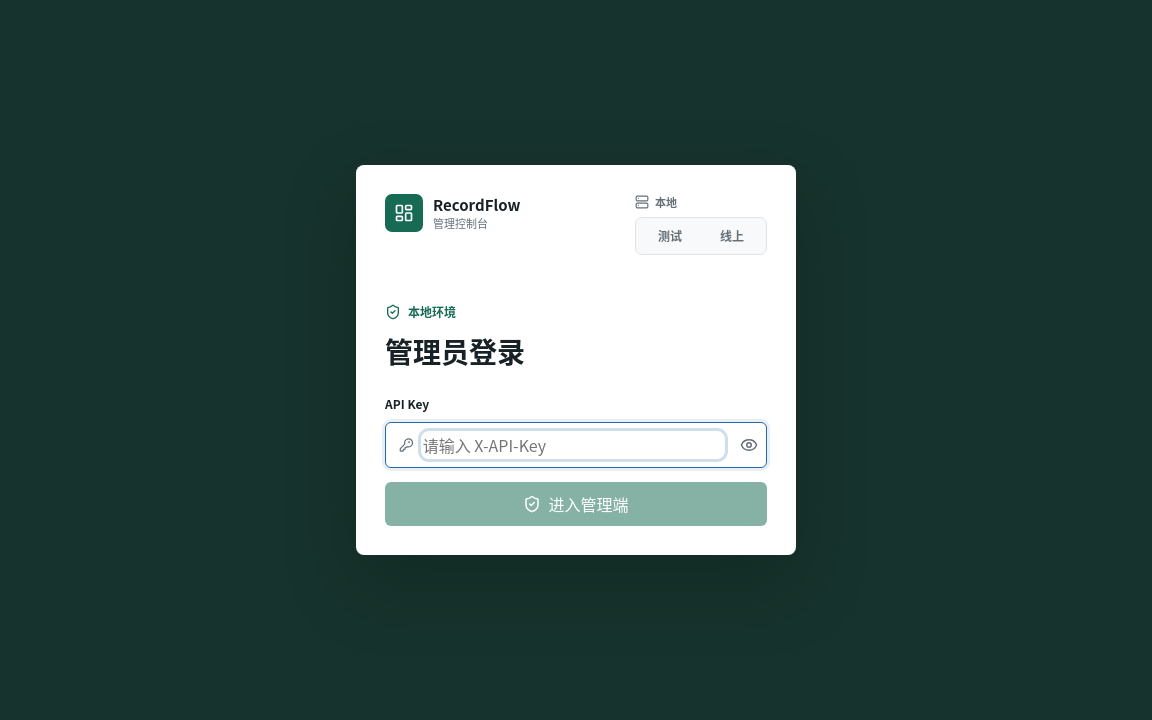
Test: AdminApp › validates the API key, shows the environment and navigates between management views
Expected: the heading "管理员登录" is shown, [385, 331, 525, 371]
Expected: the element named "当前为本地环境" is shown, [635, 194, 767, 255]
Type "admin-secret" into the password field labelled "API Key". click: (573, 445)
box: [423, 433, 723, 457]
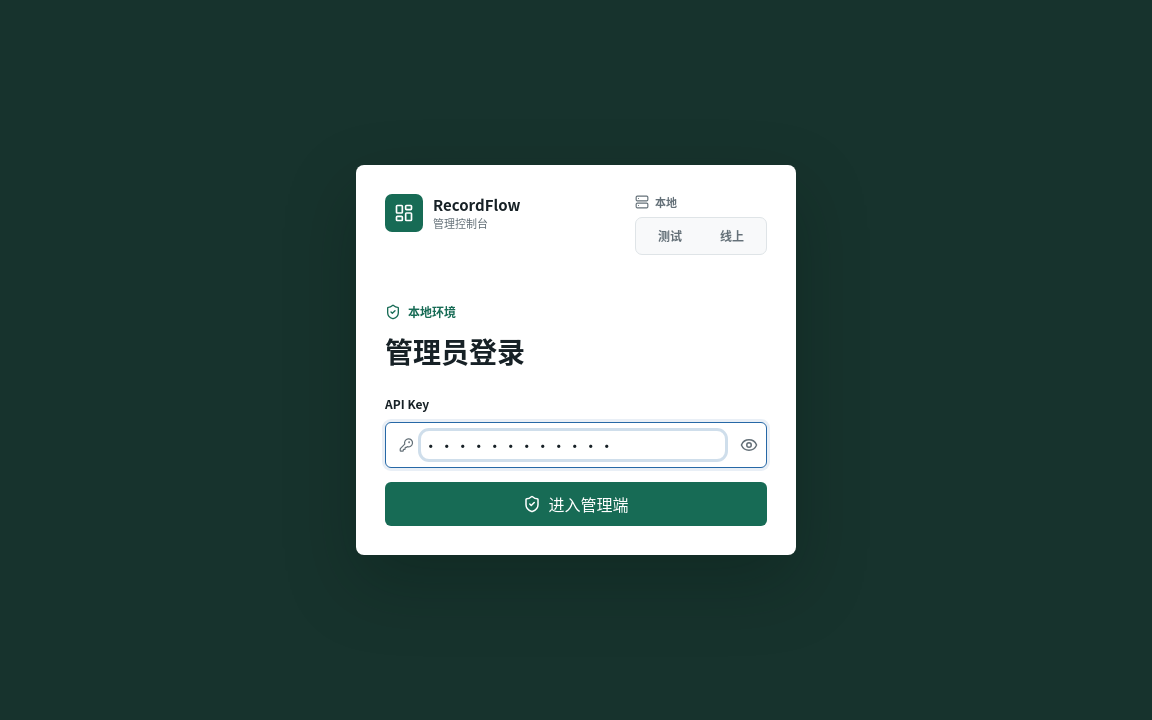
Click the button "进入管理端". click: (576, 504)
box: [385, 482, 767, 526]
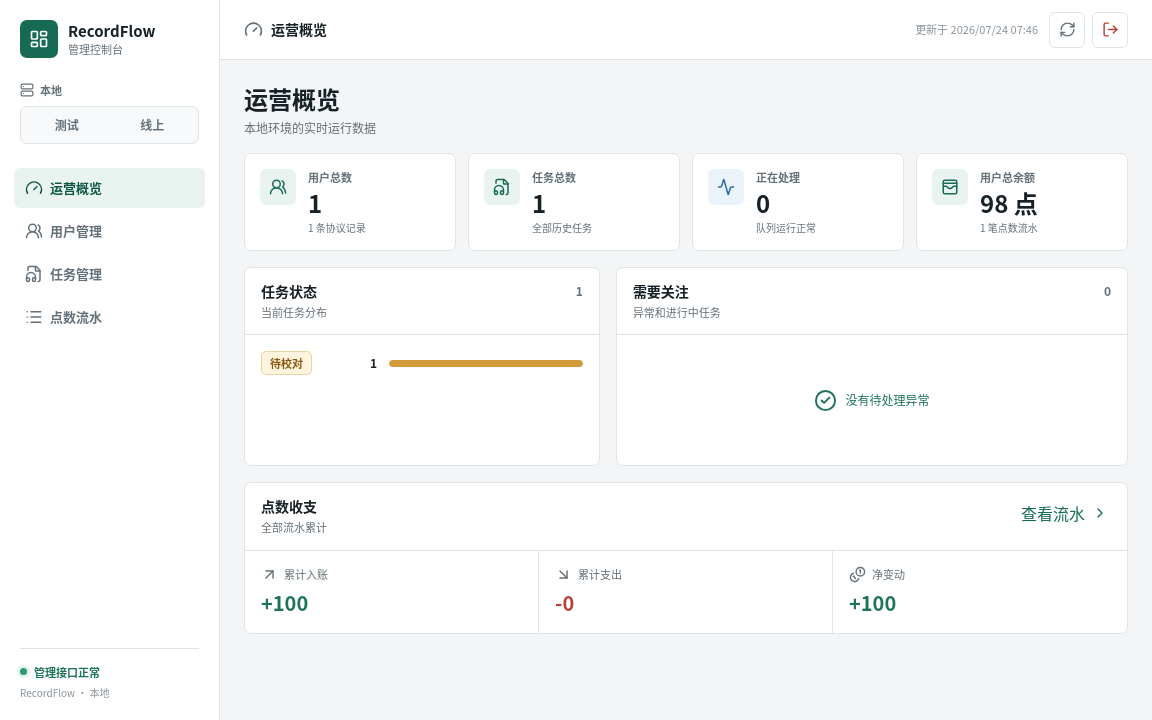
Expected: the heading "运营概览" is shown, [244, 81, 340, 116]
Click the button "任务管理". click: (110, 274)
box: [14, 254, 205, 294]
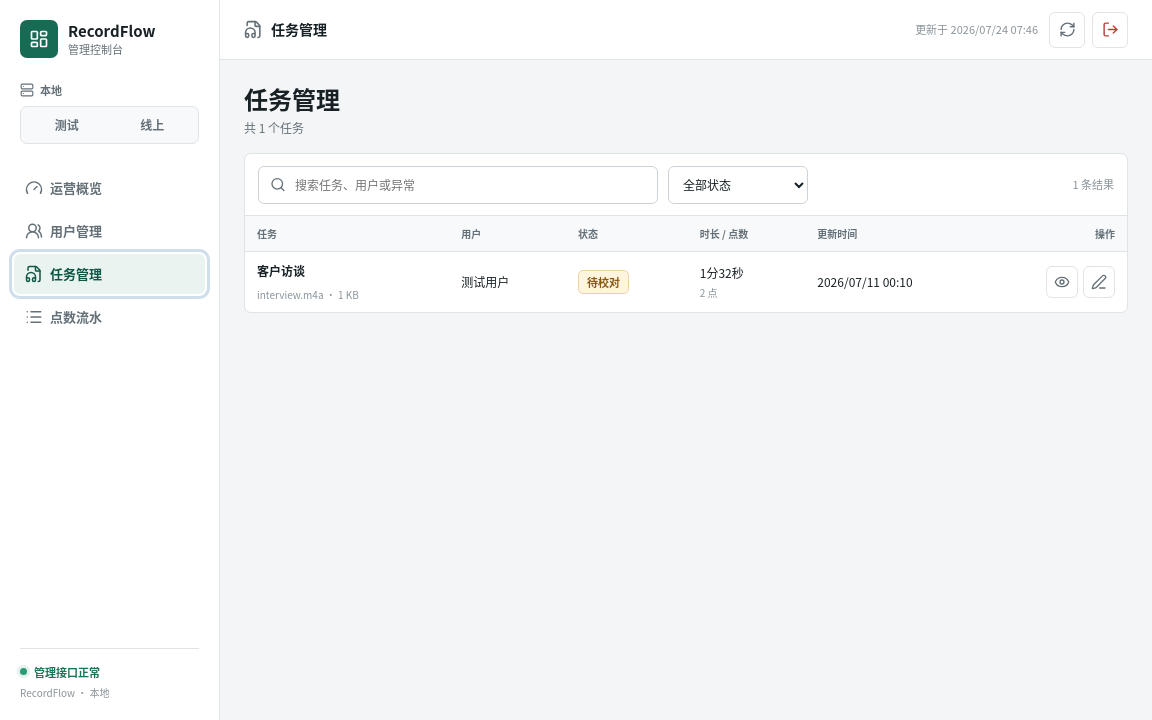
Expected: the heading "任务管理" is shown, [244, 84, 340, 114]
Expected: the text "客户访谈" is shown, [257, 262, 305, 279]
Type "不存在的任务" into the search field labelled "搜索任务". click: (470, 184)
box: [295, 166, 646, 202]
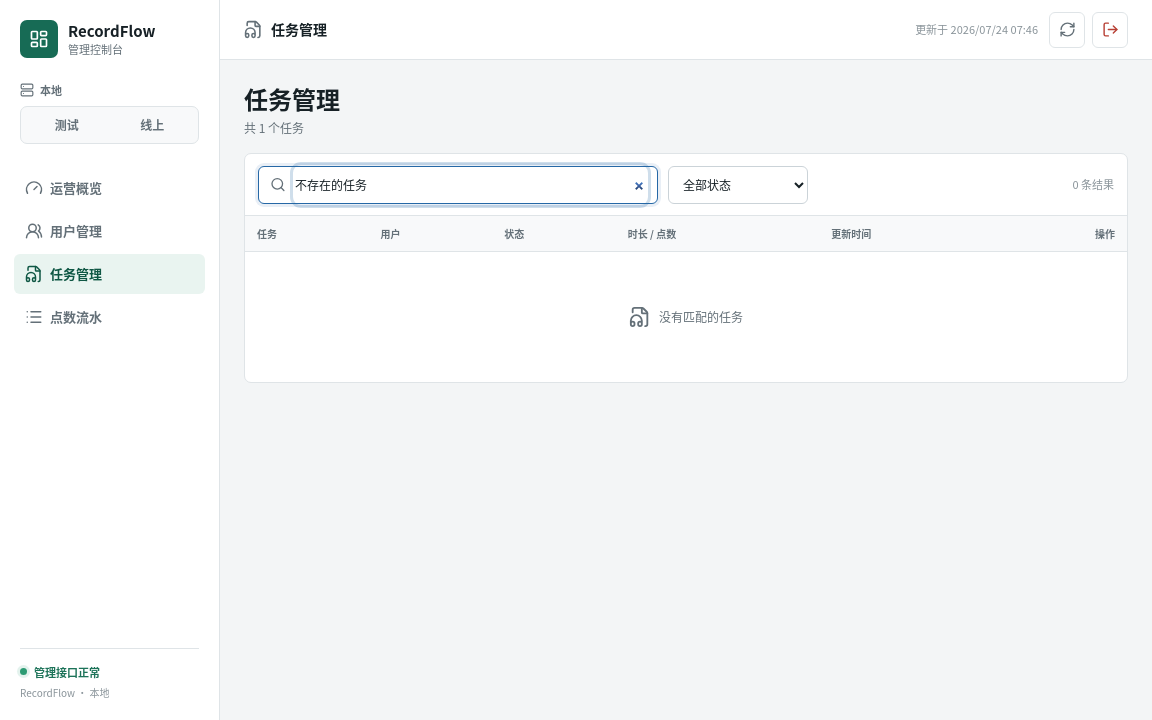
Expected: the text "没有匹配的任务" is shown, [659, 308, 743, 326]
